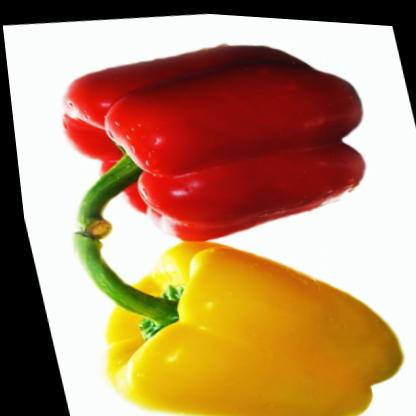bell_pepper: (15, 5, 407, 267), (52, 194, 416, 416)
